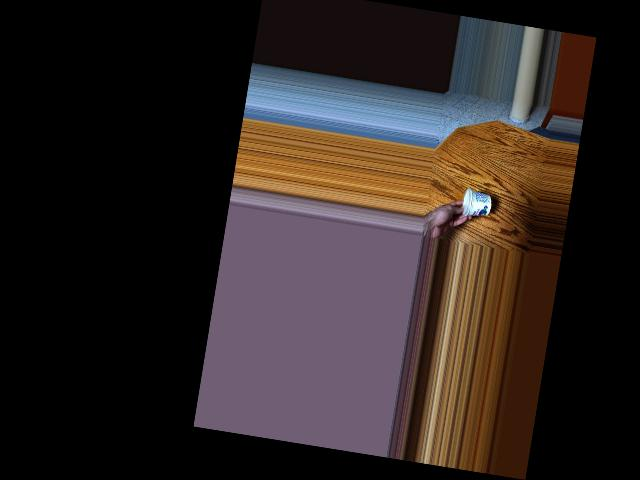cotage: (454, 182, 492, 222)
